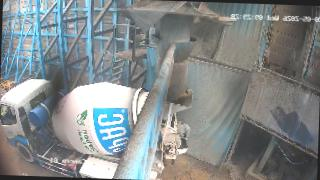cement_mixer_truck: (0, 75, 193, 180)
swing_chute: (150, 32, 198, 99)
